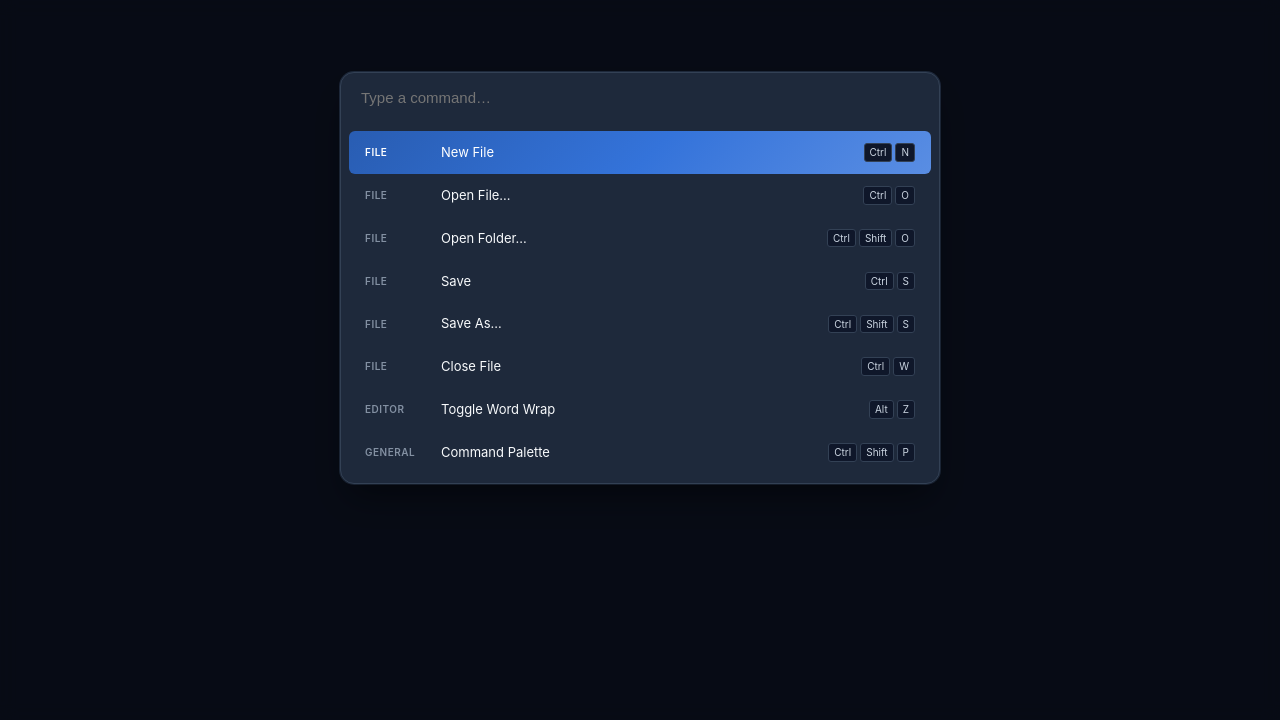
Scenario: CommandPalette › lists commands when open and filters by query
Expected: the dialog named "Command Palette" is shown, x1=340 y1=72 x2=940 y2=484
Step 1. Type "split" into the dropdown → (640, 98), box x1=341 y1=73 x2=939 y2=123
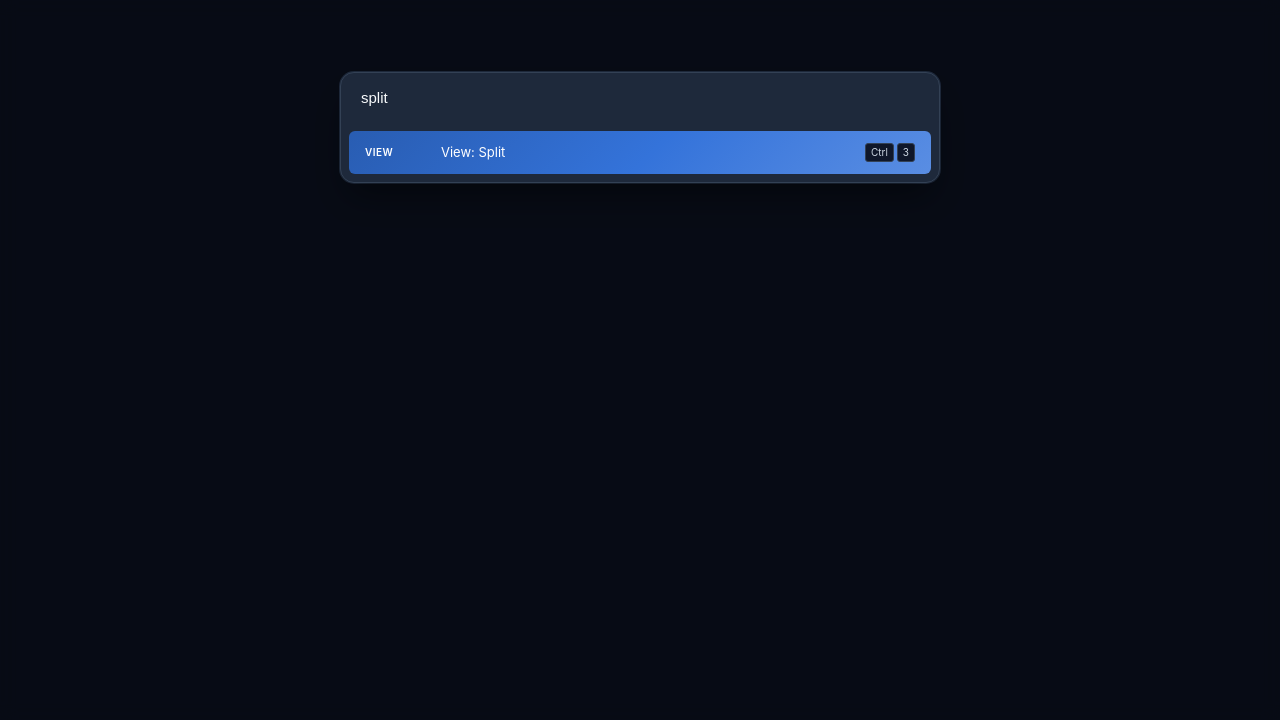
Result: the option shows "Split" at x1=349 y1=131 x2=931 y2=174
